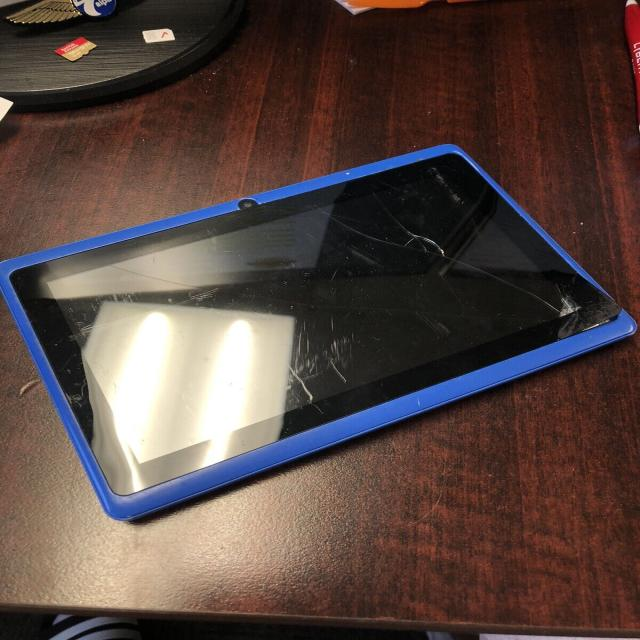Crack: (385, 177, 591, 346)
Scratches: (252, 325, 354, 420), (94, 279, 215, 349)
